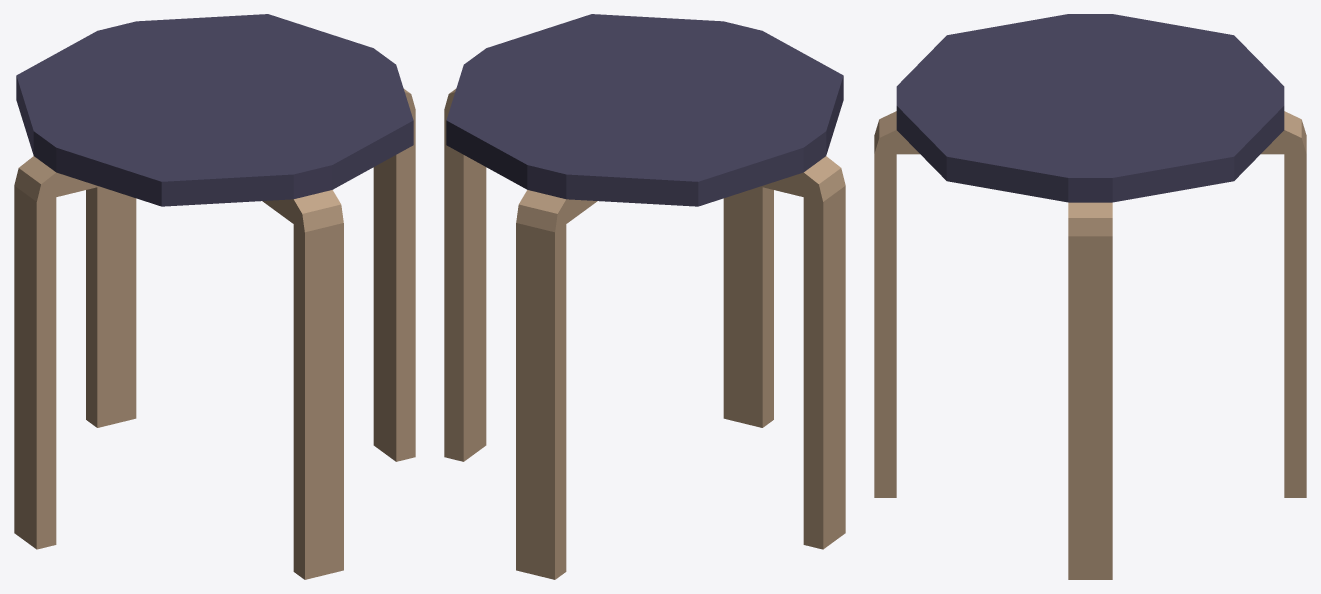
The model's file is Tori_Koju_Jakkara.fbx.
3 renders of one model, left to right at view 1: azimuth 30°, elevation 25°; view 2: azimuth 150°, elevation 25°; view 3: azimuth 270°, elevation 25°, orthographic.
Parts seen in each view (by area): view 1: Tori_Koju_Jakkara; view 2: Tori_Koju_Jakkara; view 3: Tori_Koju_Jakkara.
Part boxes in pixels (bbox=[...]): Tori_Koju_Jakkara: bbox=[14, 14, 415, 579]; Tori_Koju_Jakkara: bbox=[444, 14, 845, 579]; Tori_Koju_Jakkara: bbox=[874, 14, 1306, 579].
Size of the model in its own units: 47.25 by 47.34 by 47.24.
